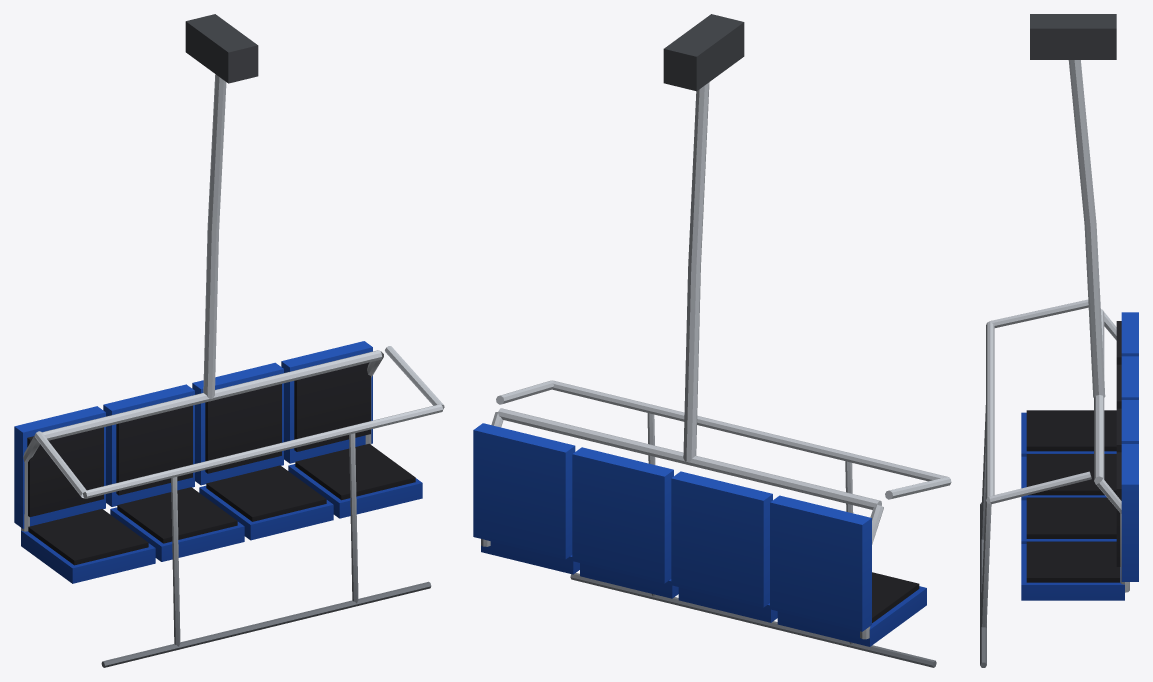
The model's file is Chairlift_Chair.fbx.
3 renders of one model, left to right at view 1: azimuth 30°, elevation 25°; view 2: azimuth 150°, elevation 25°; view 3: azimuth 270°, elevation 25°, orthographic. The views are drawn at different scales.
Visible parts, largest first — view 1: Chairlift_Chair_LOD0; view 2: Chairlift_Chair_LOD0; view 3: Chairlift_Chair_LOD0.
Part boxes in pixels (x1,y1,x2,y2): Chairlift_Chair_LOD0: (14, 14, 444, 667); Chairlift_Chair_LOD0: (473, 14, 951, 667); Chairlift_Chair_LOD0: (980, 14, 1138, 667).
Size of what is drawn, in the model's own units: 2.45 by 3.62 by 0.92.
Materials: 1 (1 with a texture image).
